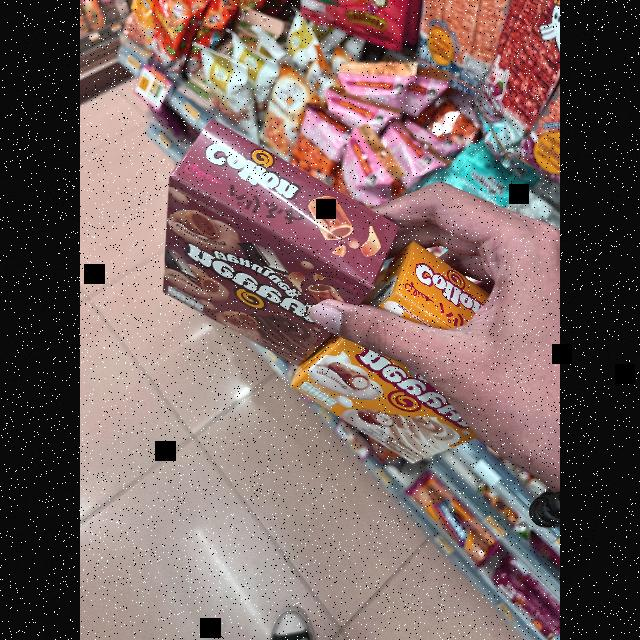cardboard_box: (151, 116, 411, 396), (296, 237, 504, 467)
